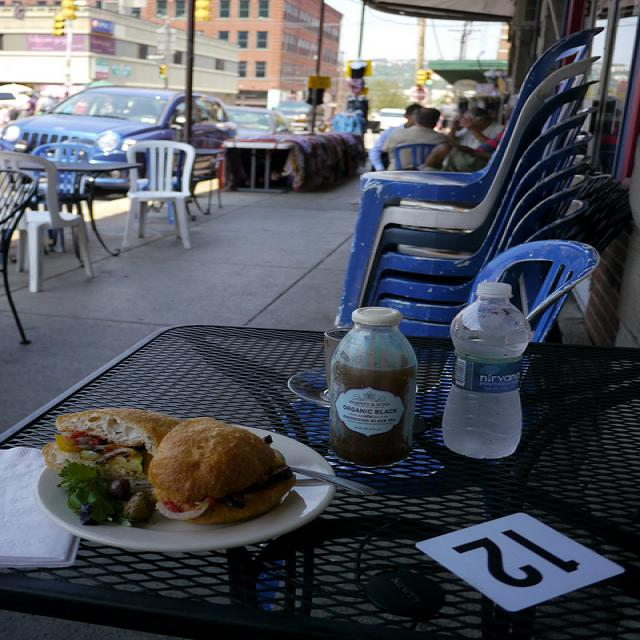Vehicle: (0, 86, 238, 189), (227, 105, 290, 138)
